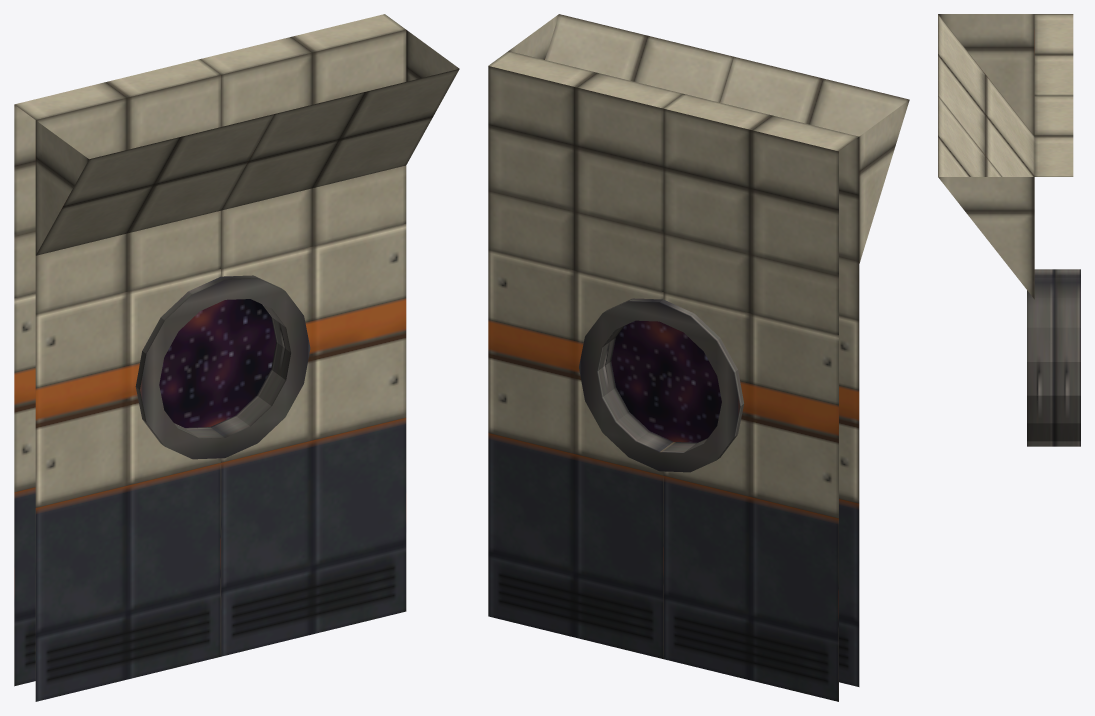
File: wall_corridor_porthole.fbx
3 views of the same model, side by side, from view 1: azimuth 30°, elevation 25°; view 2: azimuth 150°, elevation 25°; view 3: azimuth 270°, elevation 25° (orthographic). The views are drawn at different scales.
Visible parts, largest first — view 1: wall_corridor_porthole; view 2: wall_corridor_porthole; view 3: wall_corridor_porthole.
Part boxes in pixels (box(x1,y1,x2,y2)): wall_corridor_porthole: box(14, 14, 459, 701); wall_corridor_porthole: box(488, 14, 909, 701); wall_corridor_porthole: box(938, 14, 1080, 446).
Size of the model in its own units: 2 by 3 by 0.74.
